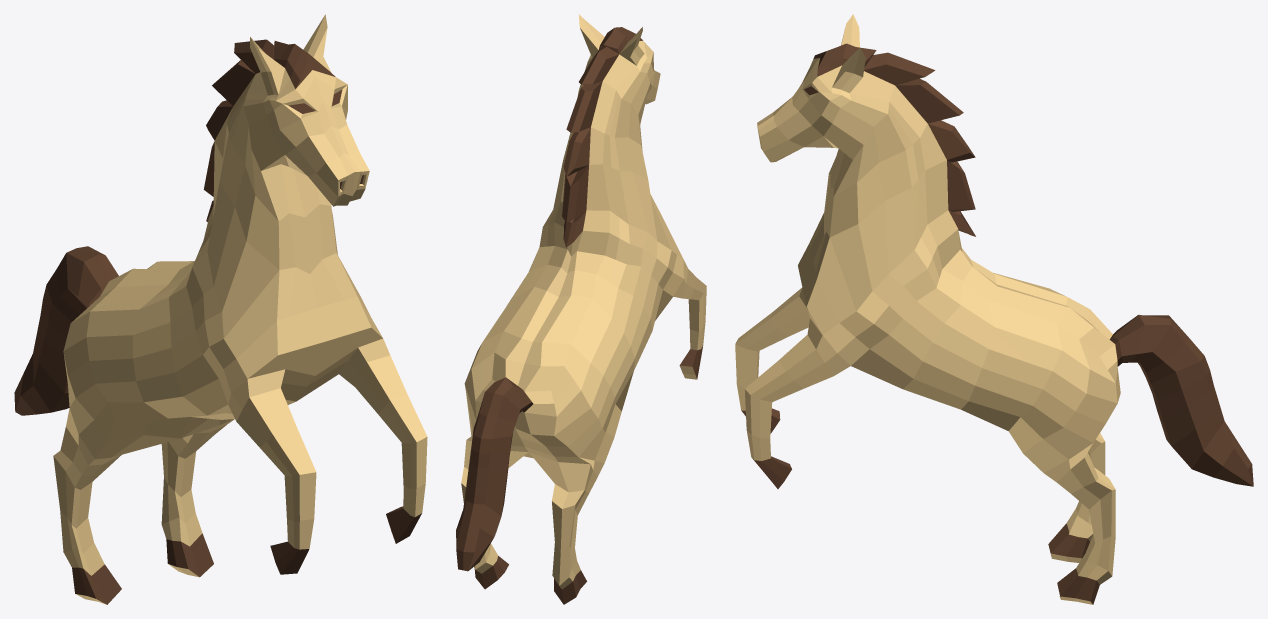
The model's file is detail horse .fbx.
The picture shows the model from 3 angles, left to right: view 1: azimuth 30°, elevation 25°; view 2: azimuth 150°, elevation 25°; view 3: azimuth 270°, elevation 25°; orthographic projection. The views are drawn at different scales.
Visible parts, largest first — view 1: Cube.044; view 2: Cube.044; view 3: Cube.044.
Part boxes in pixels (box(x1,y1,x2,y2)): Cube.044: box(14, 14, 427, 604); Cube.044: box(456, 14, 706, 604); Cube.044: box(735, 14, 1253, 604).
Size of the model in its own units: 121 by 414 by 346.
